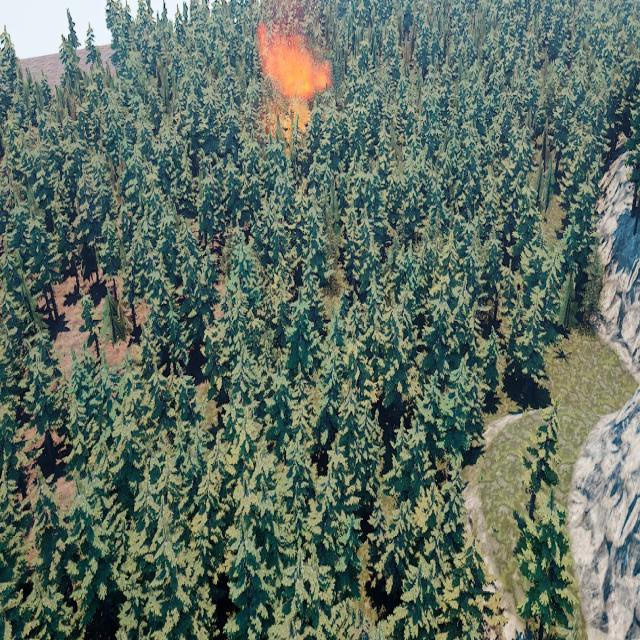fire: (258, 13, 328, 136)
